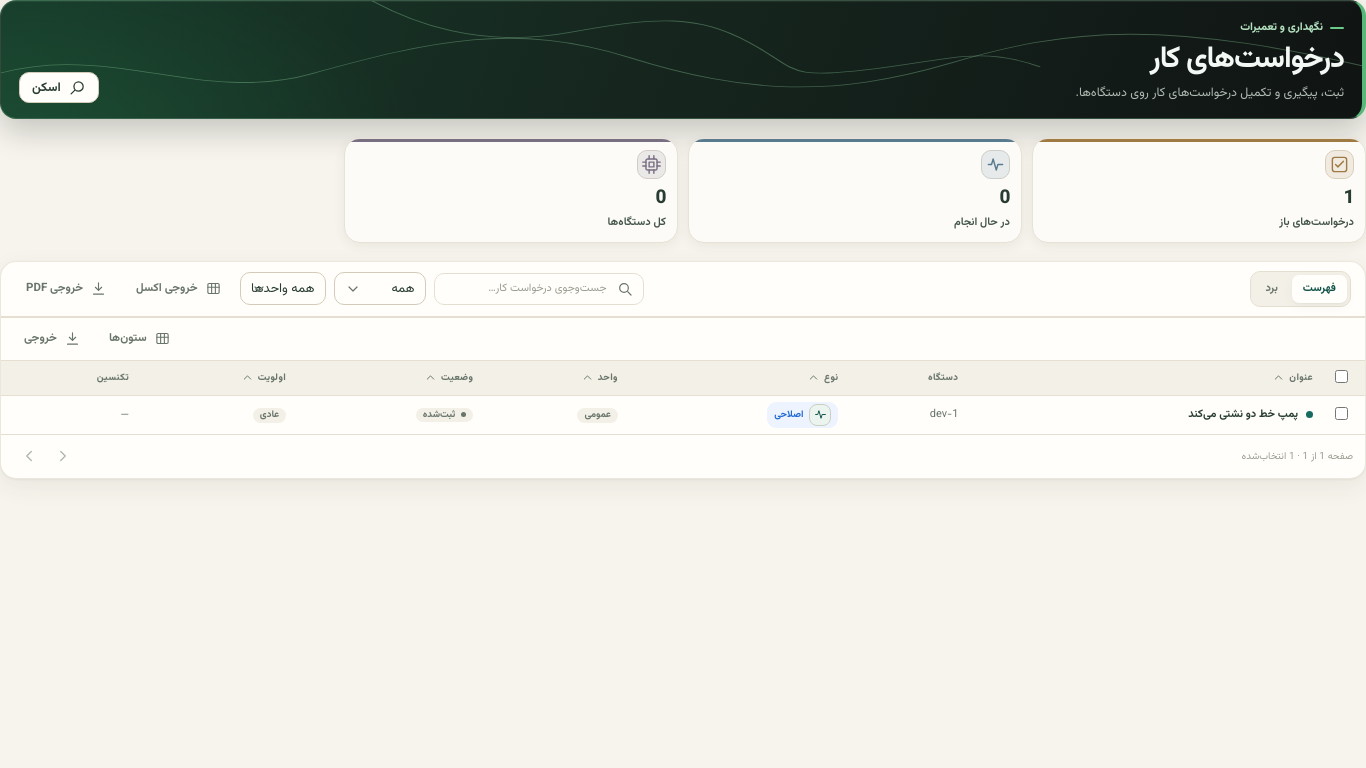
work order escalation — ارجاع پله‌به‌پله › shows the server's Persian refusal when there is nobody above
This screenshot has width=1366, height=768.
Click the button "پمپ خط دو نشتی می‌کند".
click(1251, 414)  # box x1=1188 y1=406 x2=1313 y2=423
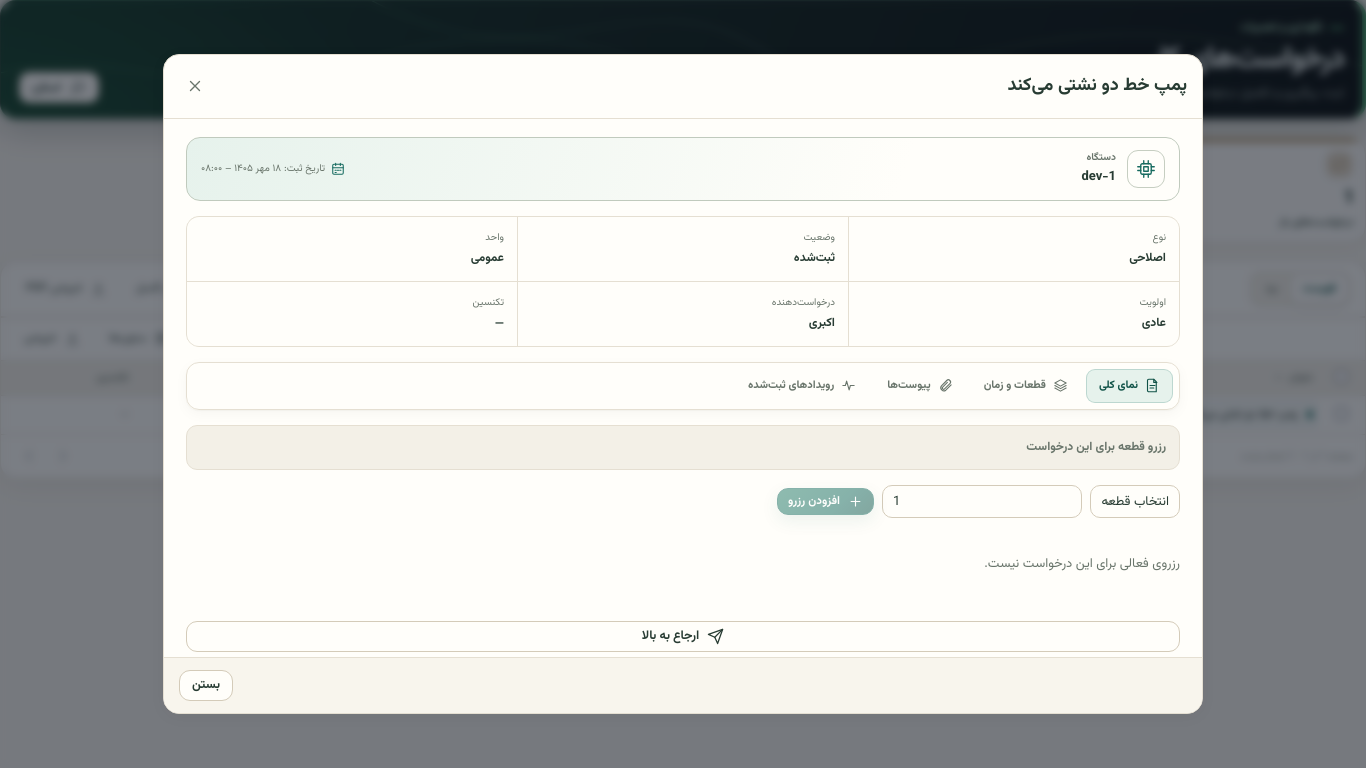
Click the button "ارجاع به بالا".
click(683, 636)  # box x1=186 y1=620 x2=1180 y2=652
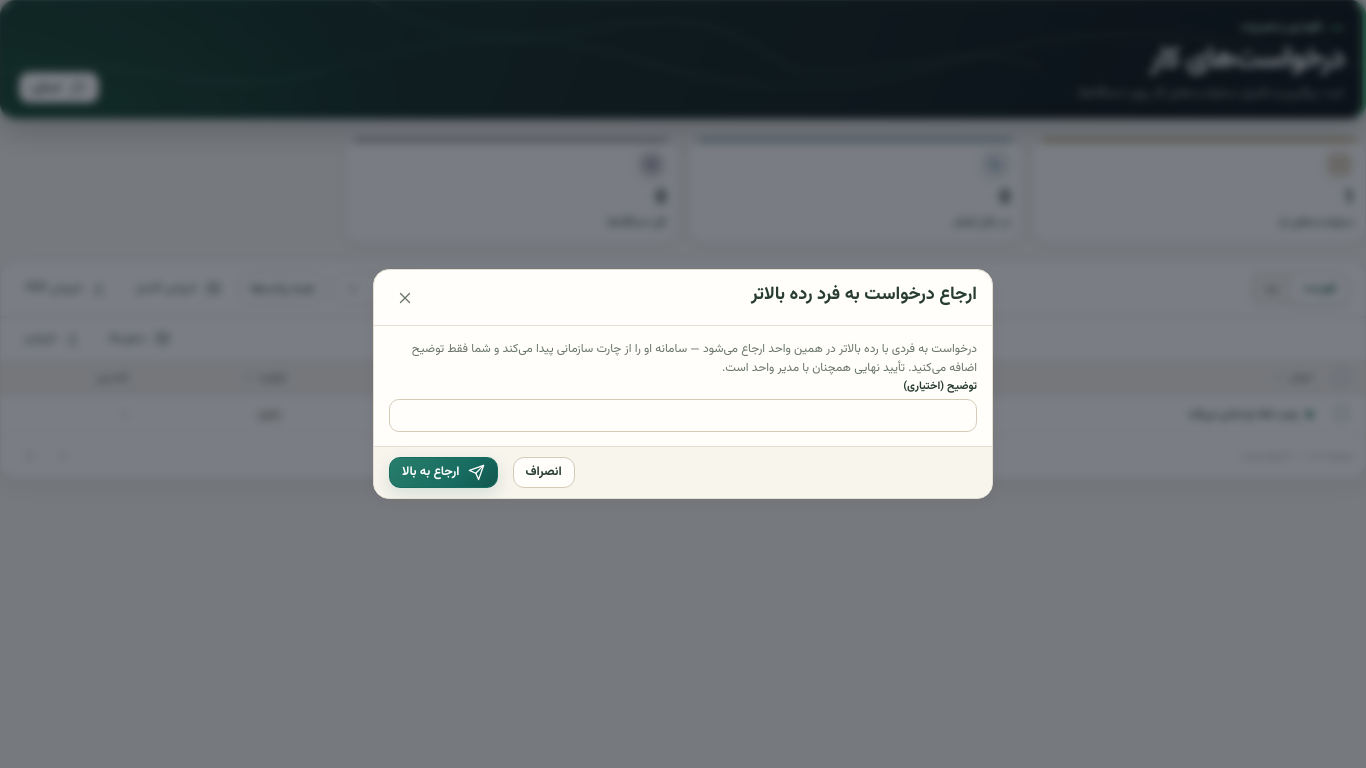
Click the button "ارجاع به بالا".
click(443, 472)  # box x1=389 y1=457 x2=498 y2=488
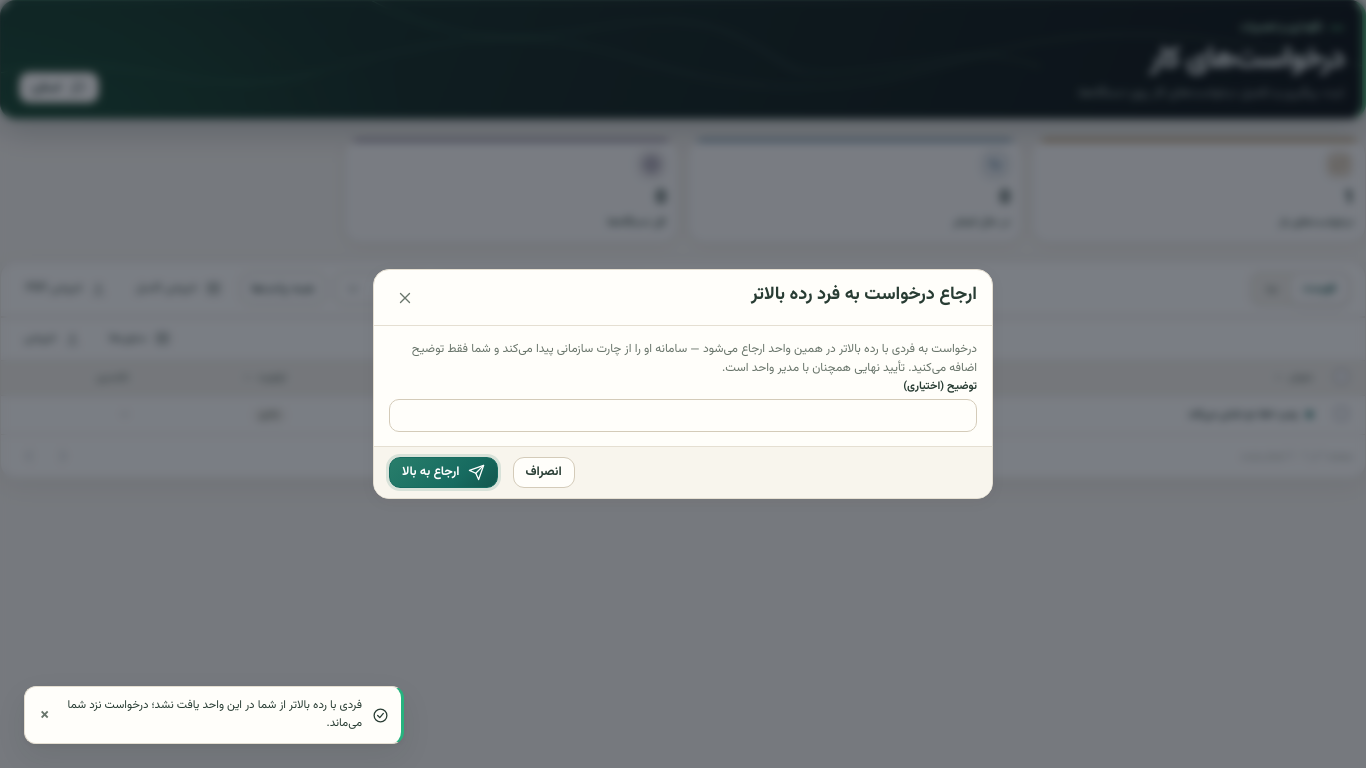
Expected: the text "فردی با رده بالاتر از شما در این واحد یافت نشد" is shown, x1=67 y1=696 x2=362 y2=732
